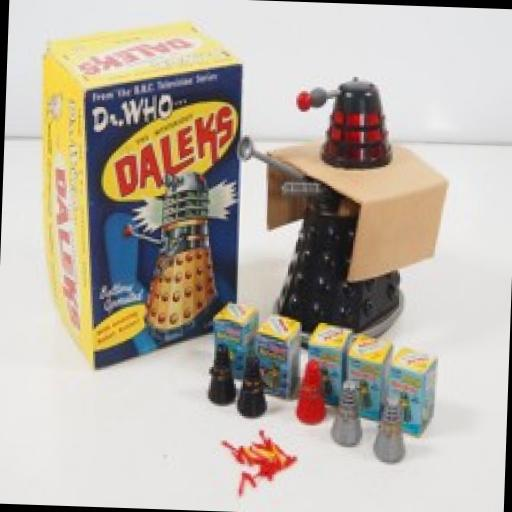dalek: (223, 70, 420, 342), (118, 162, 224, 334), (234, 352, 269, 420), (332, 376, 364, 450), (374, 391, 404, 462), (296, 360, 328, 422), (206, 346, 234, 406)
